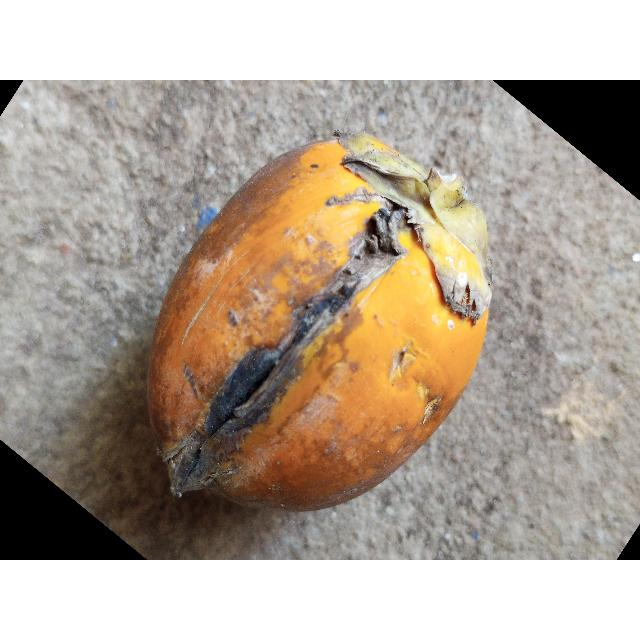damaged: (148, 133, 492, 510)
